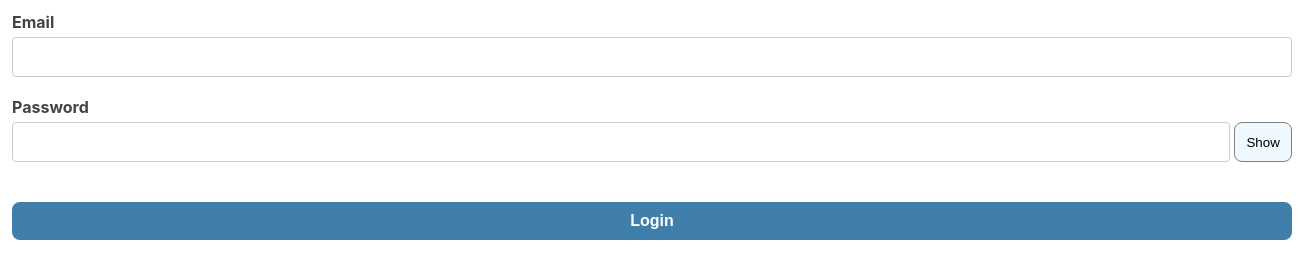
it: LoginForm Component › should toggle password visibility with button
# click show password button (toggle button)
Click the button "Show" at (1263, 142), box [1234, 122, 1292, 162]
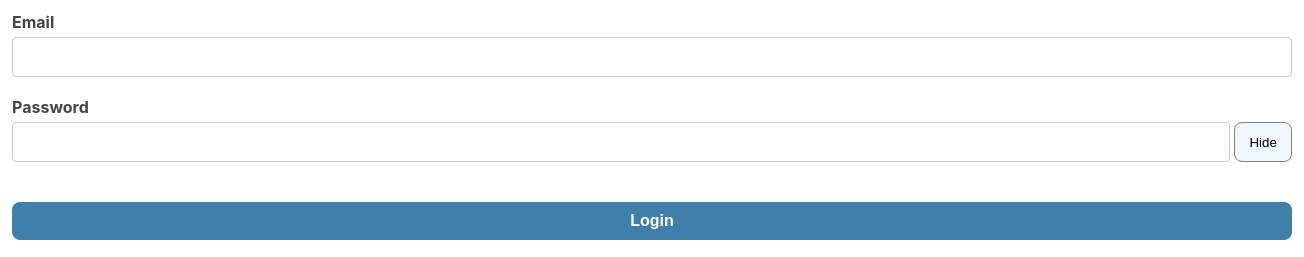
Check: the button named "show" reads "Hide"
# click hide password button  (toggle button)
Click the button named "show" at (1263, 142), box [1234, 122, 1292, 162]
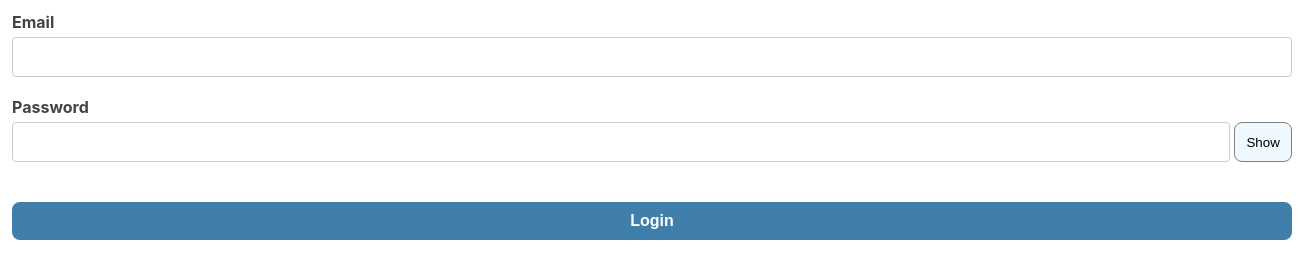
Check: the button "Show" is shown, box [1234, 122, 1292, 162]
